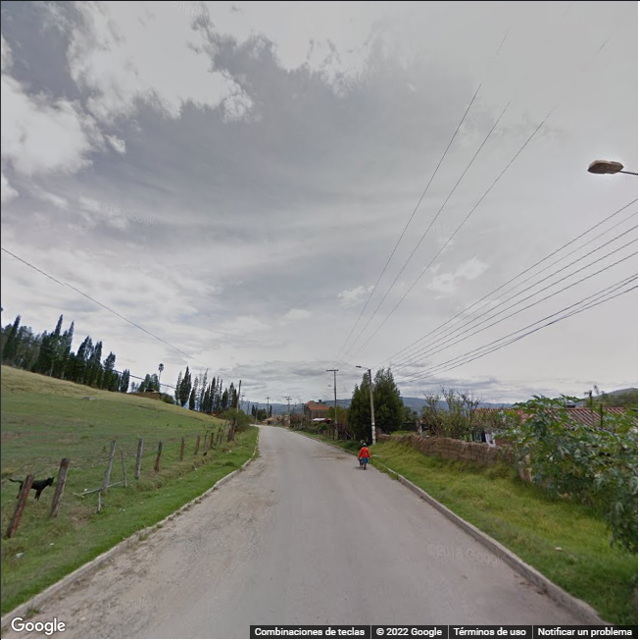D00: (120, 614, 161, 639)
D40: (146, 534, 192, 580)
